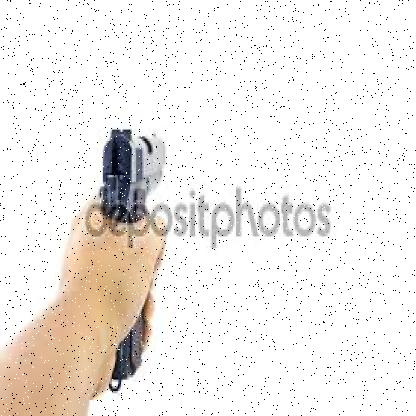pistol: (100, 127, 170, 393)
